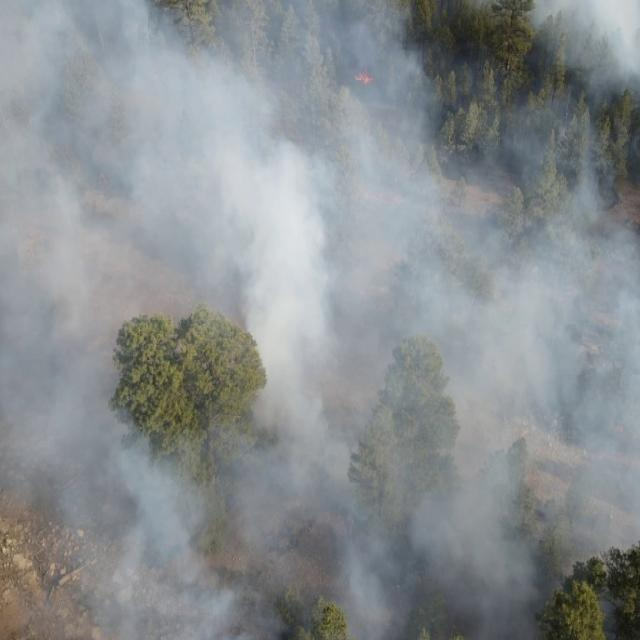fire: (353, 66, 376, 86)
smoke: (0, 0, 640, 640)
